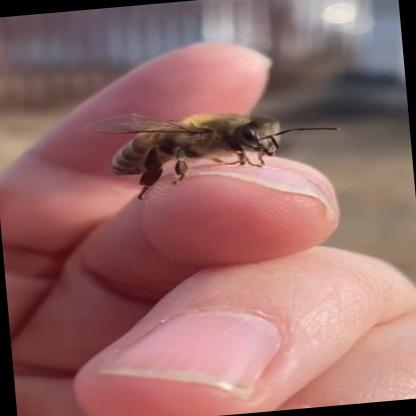bee: (81, 81, 337, 220)
